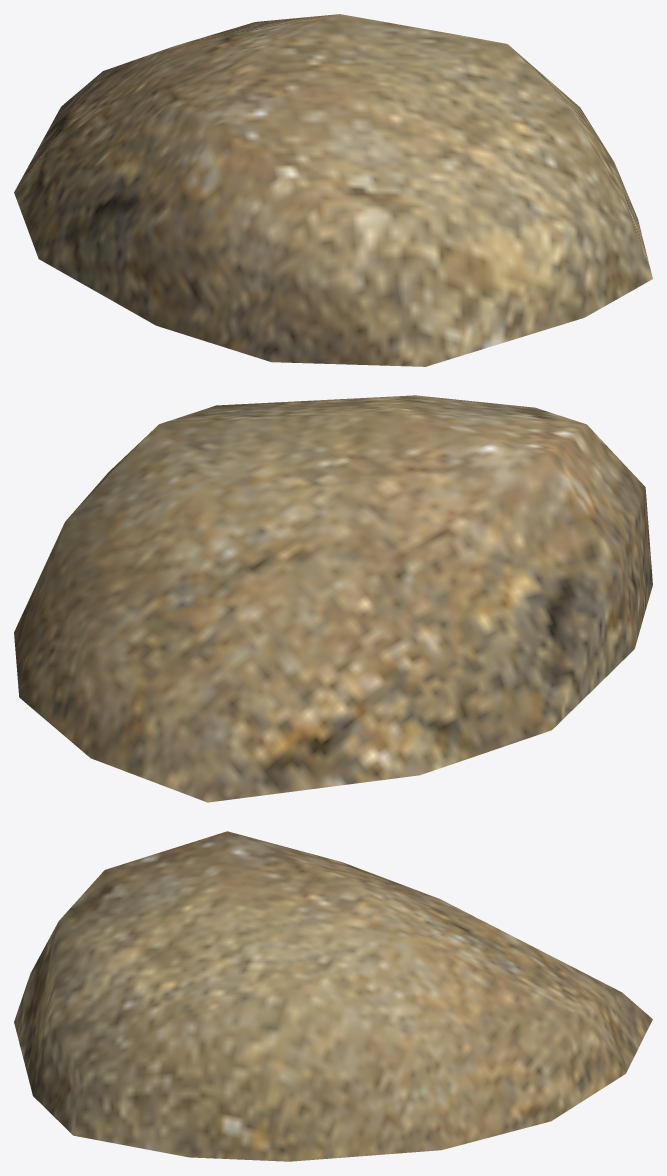
Rendered from TER_Stones_1.FBX.
The picture shows the model from 3 angles, top to bottom: view 1: azimuth 30°, elevation 25°; view 2: azimuth 150°, elevation 25°; view 3: azimuth 270°, elevation 25°; orthographic projection. The views are drawn at different scales.
Visible parts, largest first — view 1: Stone; view 2: Stone; view 3: Stone.
Part boxes in pixels (x1,y1,x2,y2): Stone: (14,14,652,366); Stone: (14,395,652,802); Stone: (14,831,652,1161).
Size of the model in its own units: 25.28 by 8.31 by 31.33.
